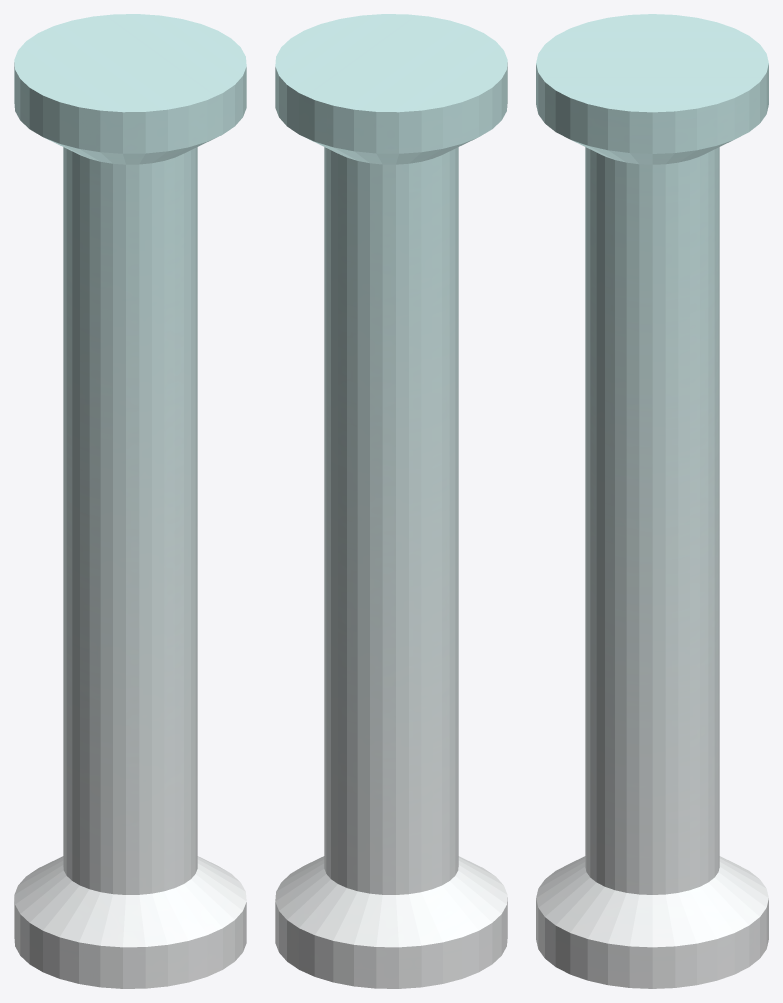
File: pillar.fbx
The picture shows the model from 3 angles, left to right: view 1: azimuth 30°, elevation 25°; view 2: azimuth 150°, elevation 25°; view 3: azimuth 270°, elevation 25°; orthographic projection.
Parts seen in each view (by area): view 1: Cylinder.001; view 2: Cylinder.001; view 3: Cylinder.001.
Part boxes in pixels (x1,y1,x2,y2): Cylinder.001: (14, 14, 246, 988); Cylinder.001: (275, 14, 507, 988); Cylinder.001: (536, 14, 768, 988).
Size of the model in its own units: 51.36 by 51.36 by 213.
